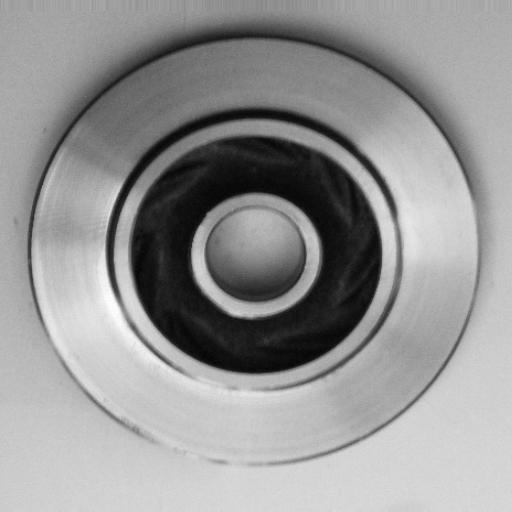scratch: (29, 33, 486, 473), (134, 424, 255, 478)
